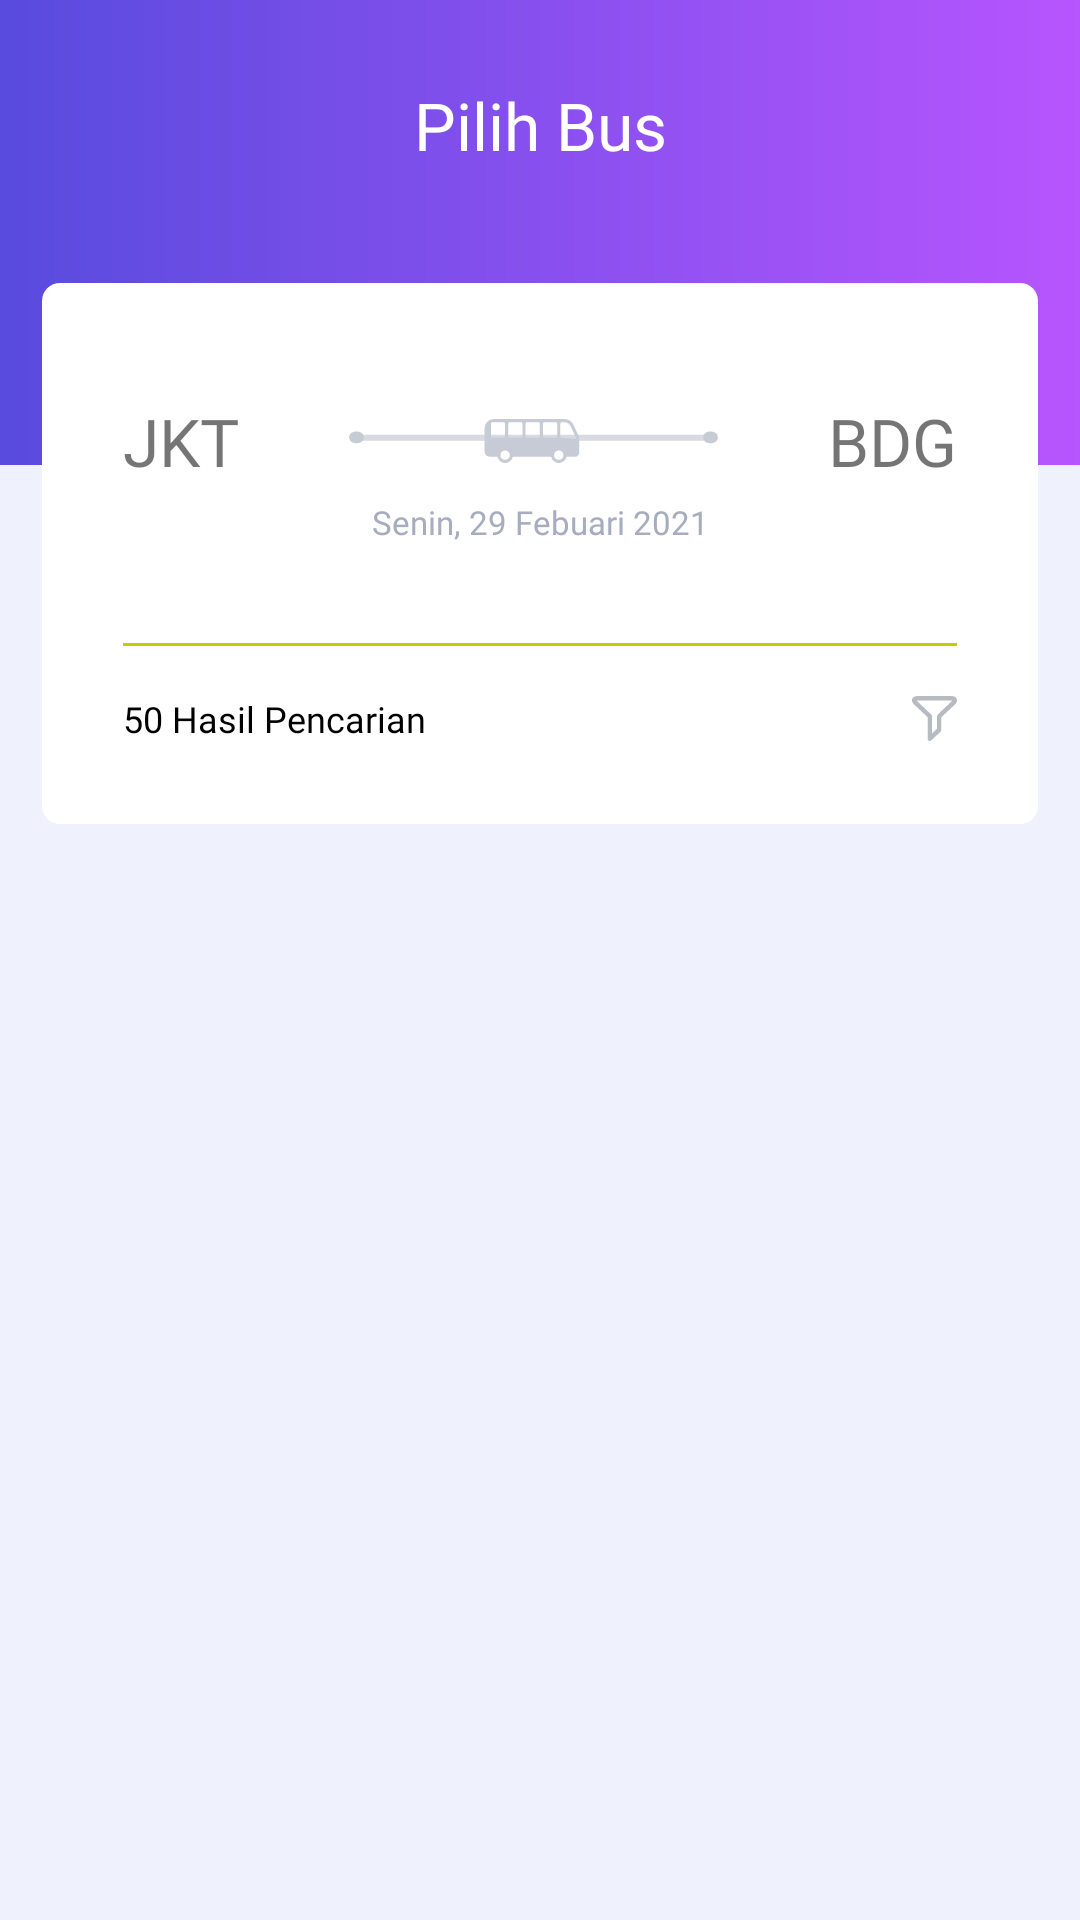

Icon click points for this 1080px x 1920px phone screenshot, format point (x, y):
filter: point (934, 718)
